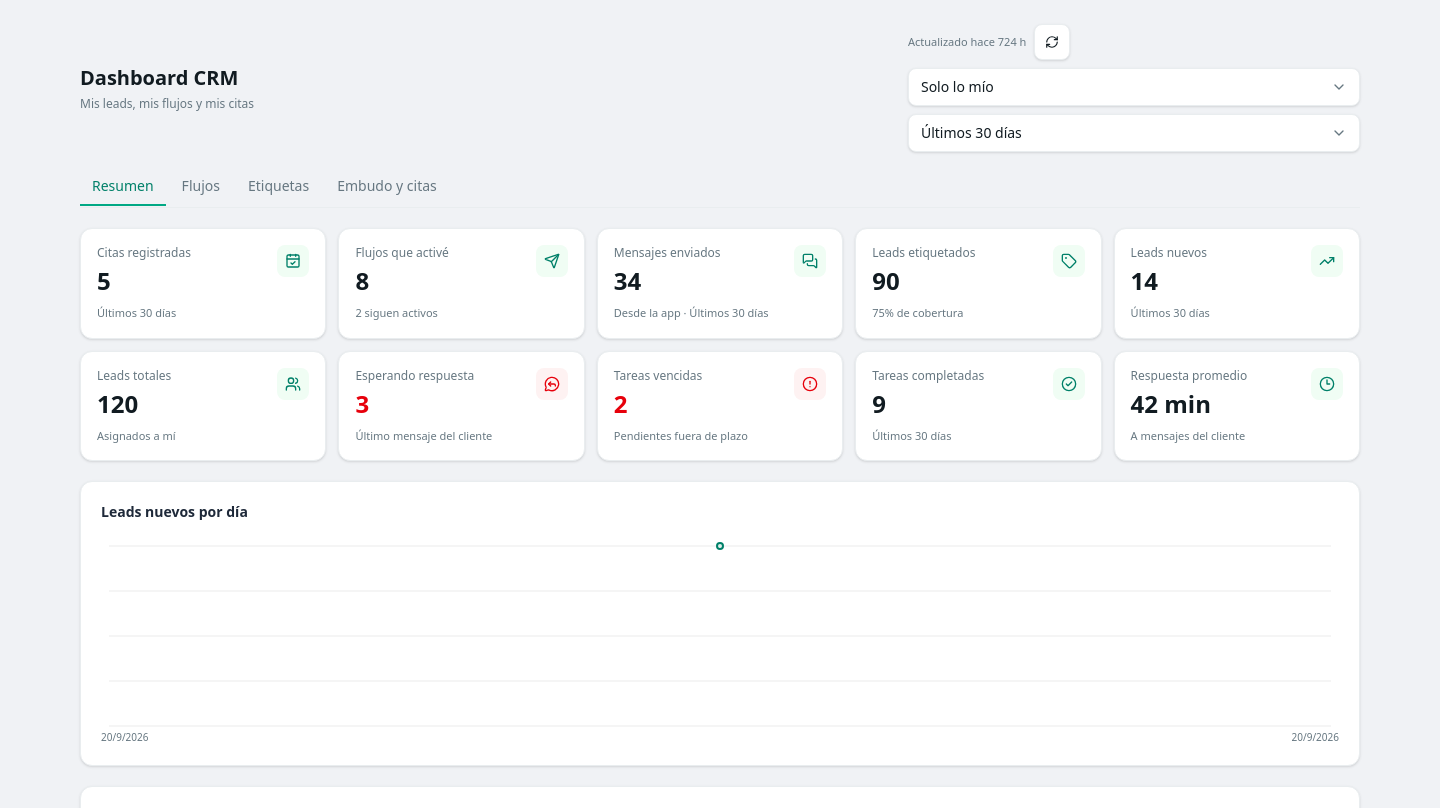
Test: DashboardPage › desglosa cada flujo por estado con la cifra visible, no solo con color
Click the tab "Flujos": (201, 187) left=170, top=168, right=232, bottom=206
(page scrolled)
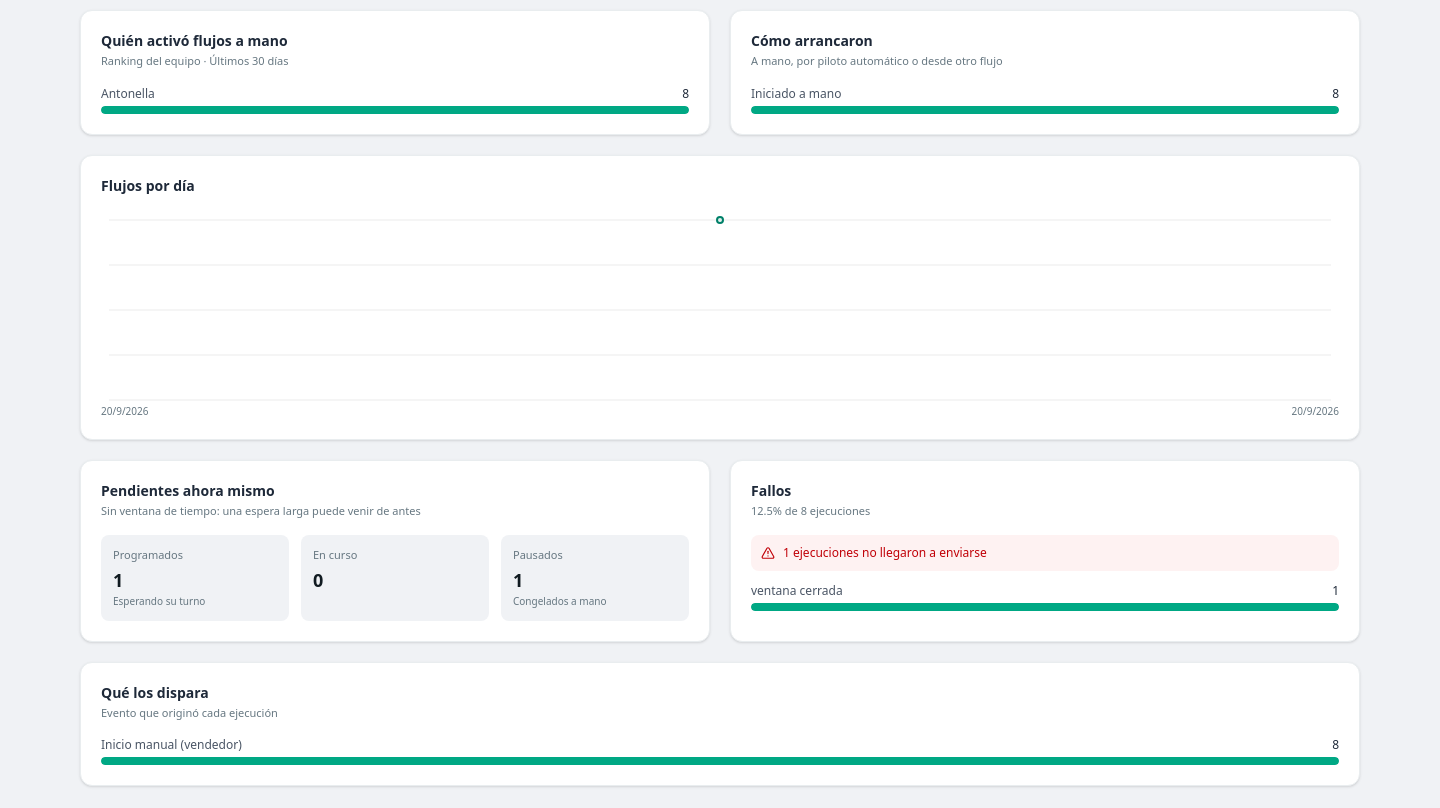
Result: the text "1 ejecuciones no llegaron a enviarse" is shown at left=751, top=535, right=1339, bottom=571
